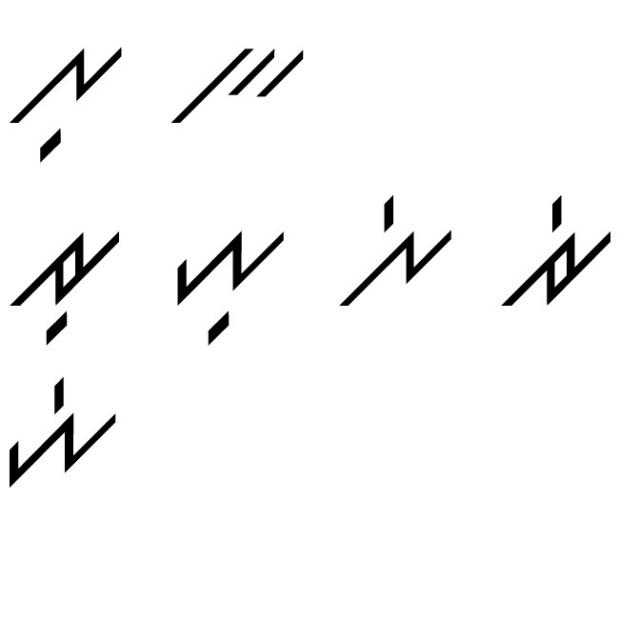le: (337, 188, 461, 312)
lu: (12, 35, 128, 168)
re: (495, 193, 615, 319)
ru: (7, 216, 123, 347)
ye: (5, 373, 120, 497)
yu: (166, 218, 296, 351)
